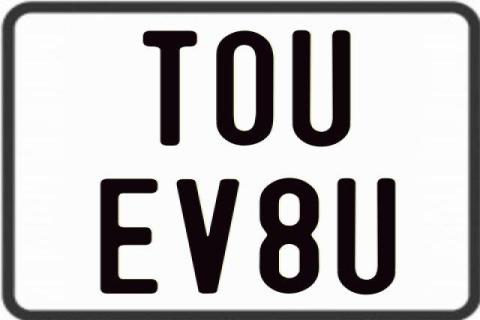0: (257, 177, 322, 296), (215, 29, 278, 149)
E: (100, 178, 158, 296)
T: (140, 28, 200, 143)
U: (335, 176, 396, 296), (289, 28, 347, 148)
V: (175, 178, 240, 294)
